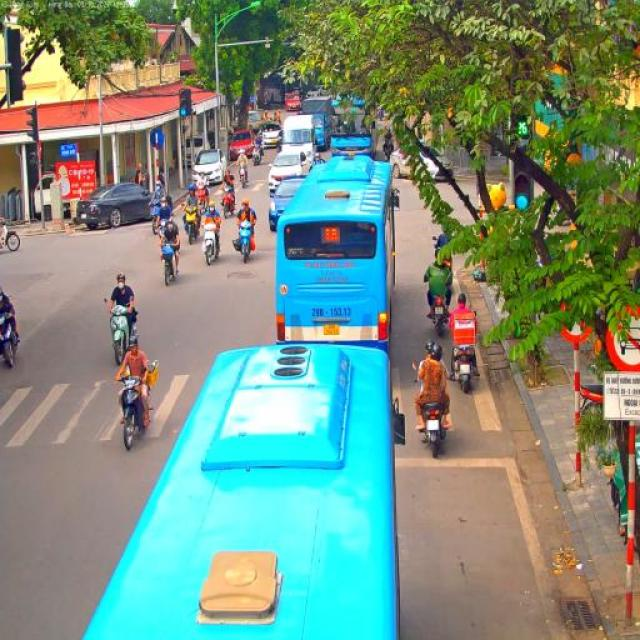bus: (82, 340, 406, 640), (275, 154, 400, 356), (330, 98, 380, 162)
car: (75, 181, 160, 230), (389, 144, 456, 182), (268, 176, 310, 232), (268, 150, 312, 199), (192, 149, 228, 189), (227, 129, 257, 162), (258, 122, 282, 149), (282, 91, 302, 113)
motorcycle: (116, 361, 160, 452), (446, 310, 479, 394), (104, 296, 140, 366), (419, 400, 450, 460), (0, 311, 20, 369), (158, 240, 181, 286), (430, 286, 450, 338), (232, 218, 254, 263), (202, 218, 222, 266), (0, 216, 21, 253), (184, 203, 201, 244), (221, 186, 238, 219), (150, 198, 164, 234), (195, 184, 210, 214), (154, 216, 172, 239), (438, 250, 453, 274), (238, 164, 248, 188), (252, 145, 262, 166), (382, 137, 392, 157)
truck: (300, 96, 334, 152), (278, 114, 316, 162), (247, 110, 263, 136)
